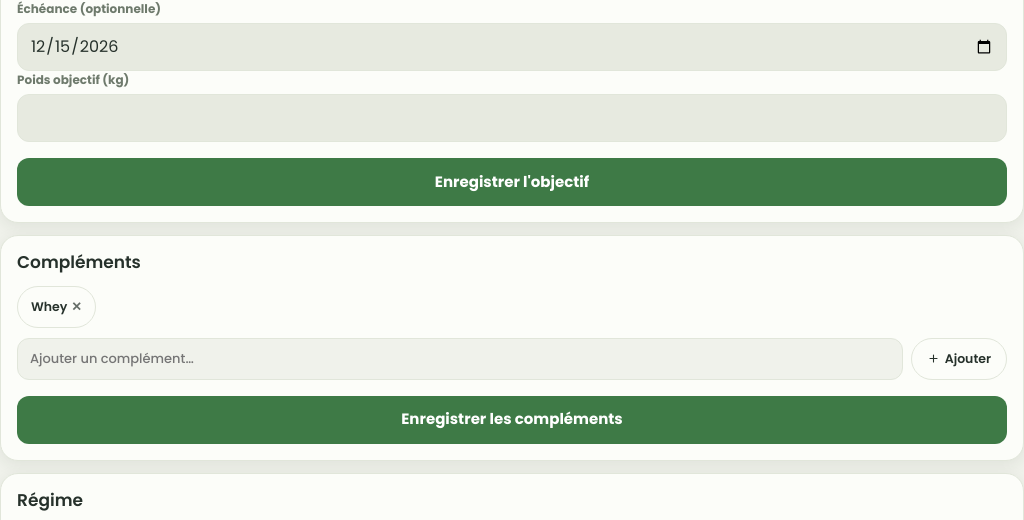
ProfilScreen (unité) › complément en doublon : alerte rendue dans la section Compléments
(page scrolled)
Type "whey" into the field labelled "Ajouter un complément". click: (460, 359)
box: [17,338,903,380]
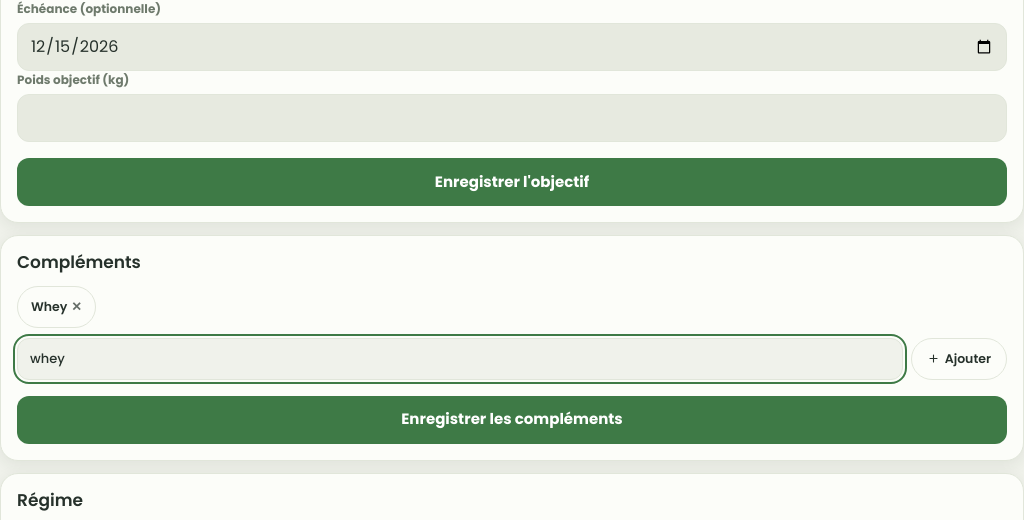
Click the button "Ajouter". click: (959, 359)
box: [911,338,1007,380]
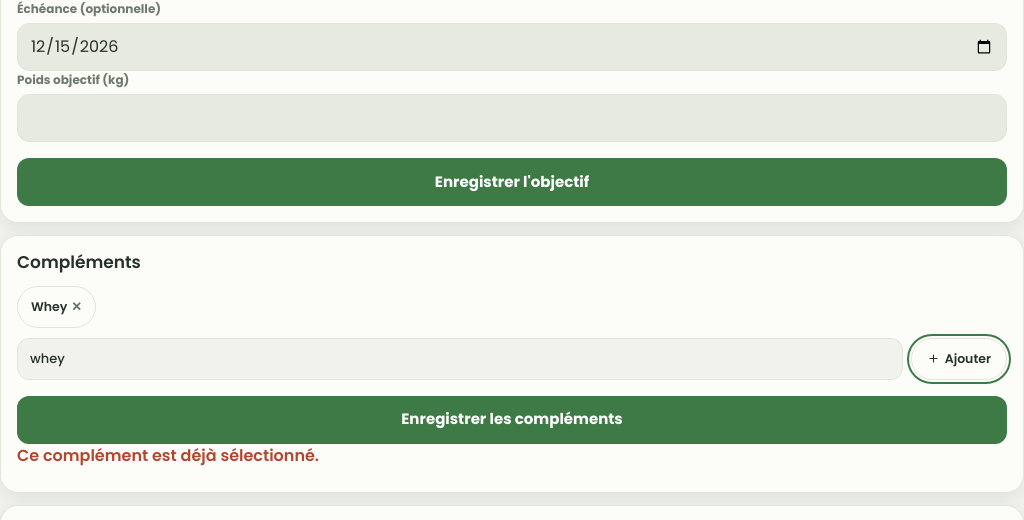
expect the message shows "déjà sélectionné": met, box [17,444,319,467]
